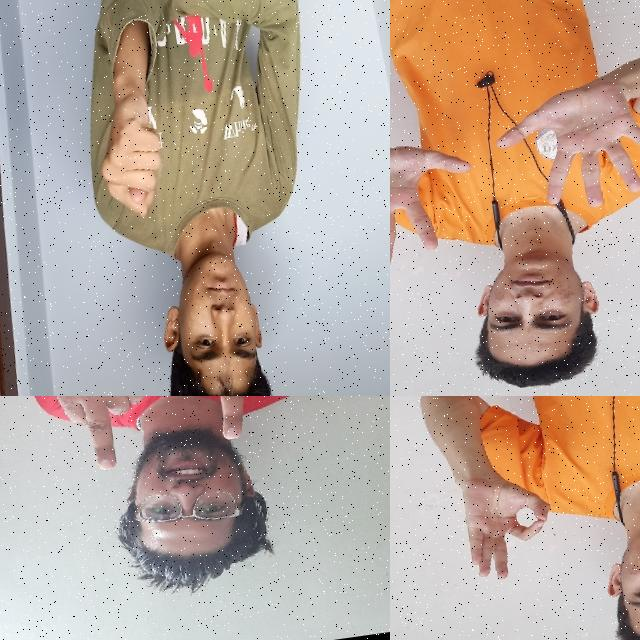Dulya: (82, 67, 186, 226)
Middle Finger: (42, 396, 169, 479), (157, 396, 282, 453)
Moutza: (481, 62, 640, 228), (390, 120, 494, 291)
Okay: (448, 461, 566, 592)
